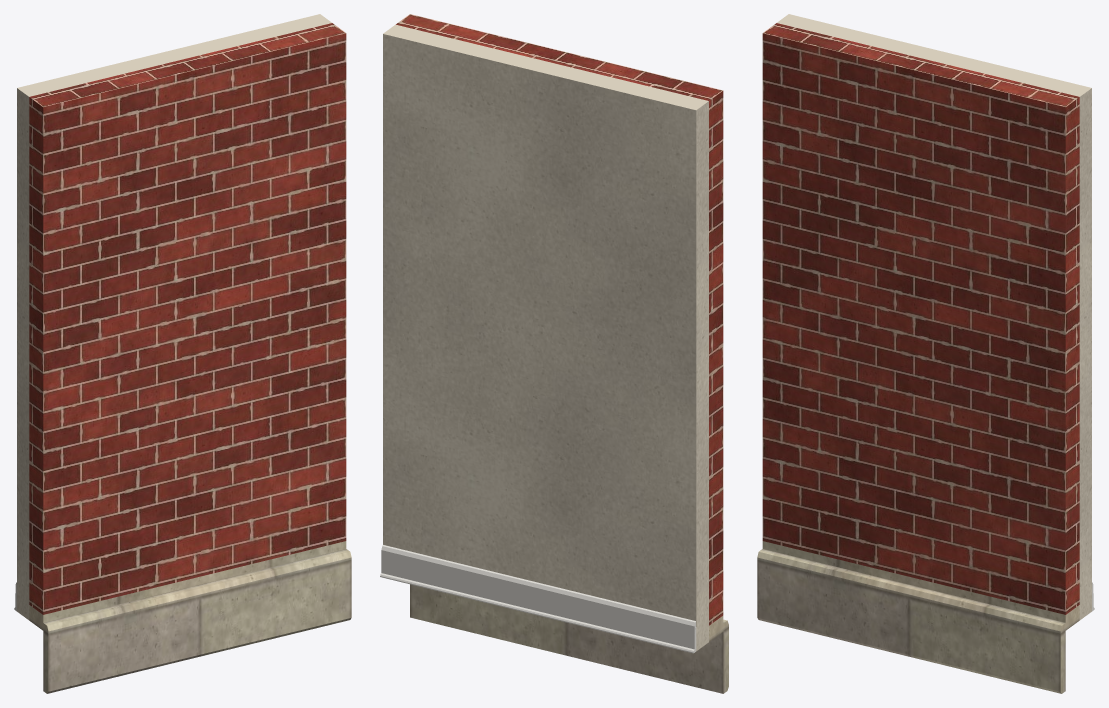
The model's file is w1_plain.glb.
3 views of the same model, side by side, from view 1: azimuth 30°, elevation 25°; view 2: azimuth 150°, elevation 25°; view 3: azimuth 330°, elevation 25° (orthographic). The views are drawn at different scales.
Parts seen in each view (by area): view 1: w1_plain_brick, w1_plain_stone_t, w1_plain_plaster; view 2: w1_plain_plaster, w1_plain_brick, w1_plain_stone_t, w1_plain_trim, molduras; view 3: w1_plain_brick, w1_plain_stone_t, w1_plain_plaster.
Part boxes in pixels (x1=…): w1_plain_brick: x1=29, y1=23, x2=346, y2=614; w1_plain_stone_t: x1=29, y1=541, x2=351, y2=693; w1_plain_plaster: x1=17, y1=14, x2=331, y2=620; w1_plain_plaster: x1=383, y1=24, x2=708, y2=650; w1_plain_brick: x1=396, y1=14, x2=723, y2=625; w1_plain_stone_t: x1=410, y1=584, x2=728, y2=693; w1_plain_trim: x1=381, y1=545, x2=695, y2=635; molduras: x1=380, y1=559, x2=696, y2=653; w1_plain_brick: x1=762, y1=23, x2=1079, y2=614; w1_plain_stone_t: x1=757, y1=541, x2=1079, y2=693; w1_plain_plaster: x1=777, y1=14, x2=1091, y2=620.
Bounding box in the file's own units: 2 × 3.68 × 0.39.
Materials: 4 (3 with a texture image).
